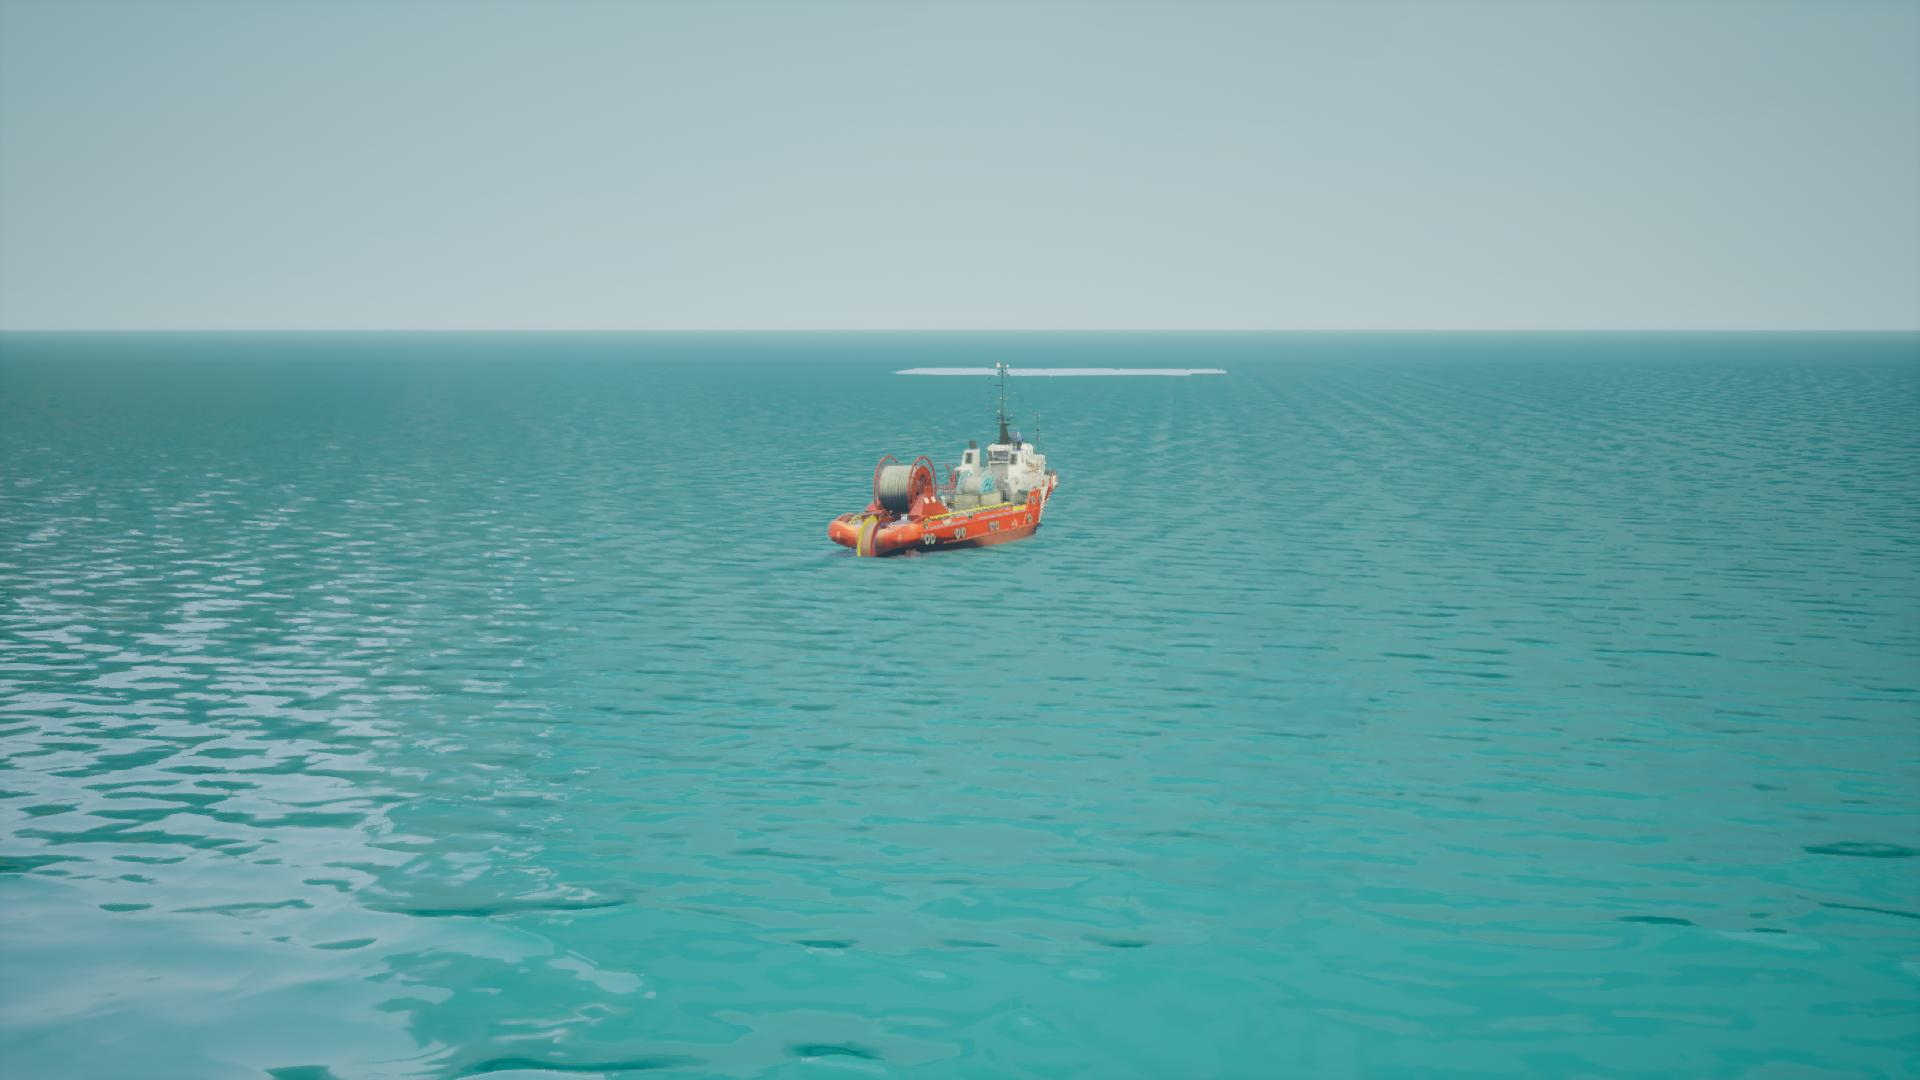Tug Boat: (829, 364, 1050, 563)
